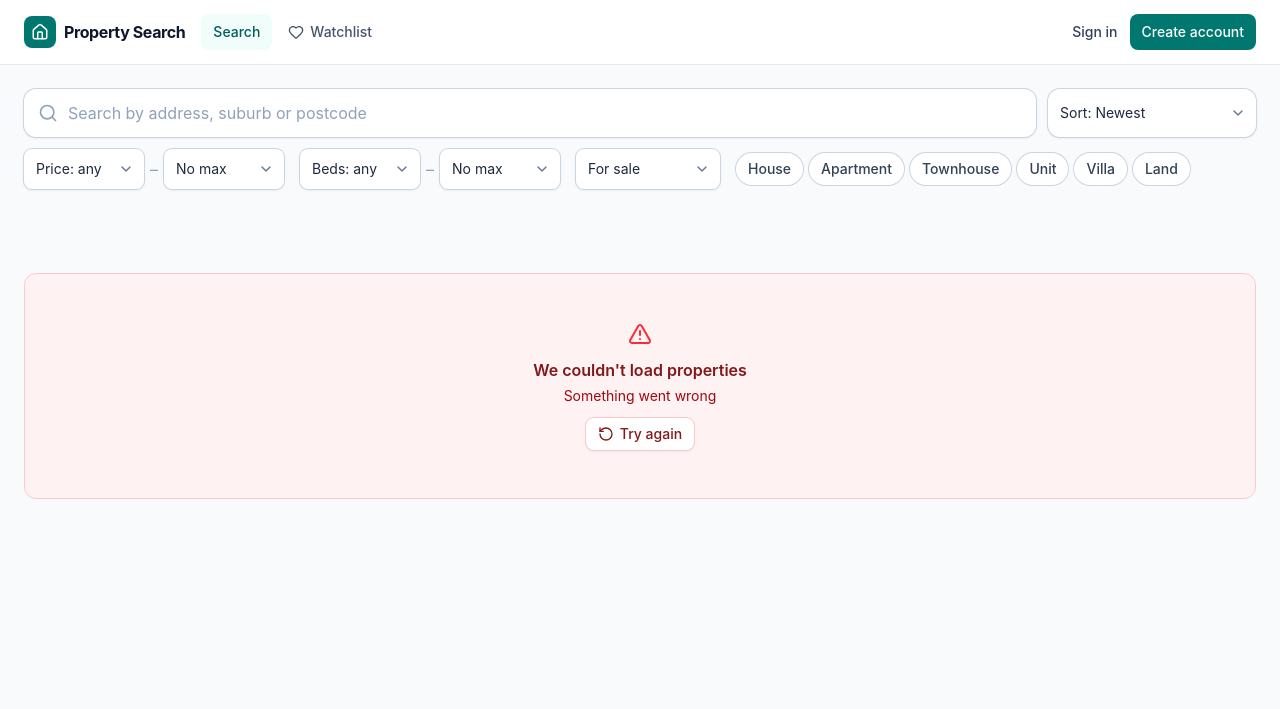
Scenario: SearchPage › shows an error with a working retry
Check: the message shows "We couldn't load properties", box [533, 360, 747, 380]
Click the button "Try again": {"x": 640, "y": 434} [586, 418, 694, 450]
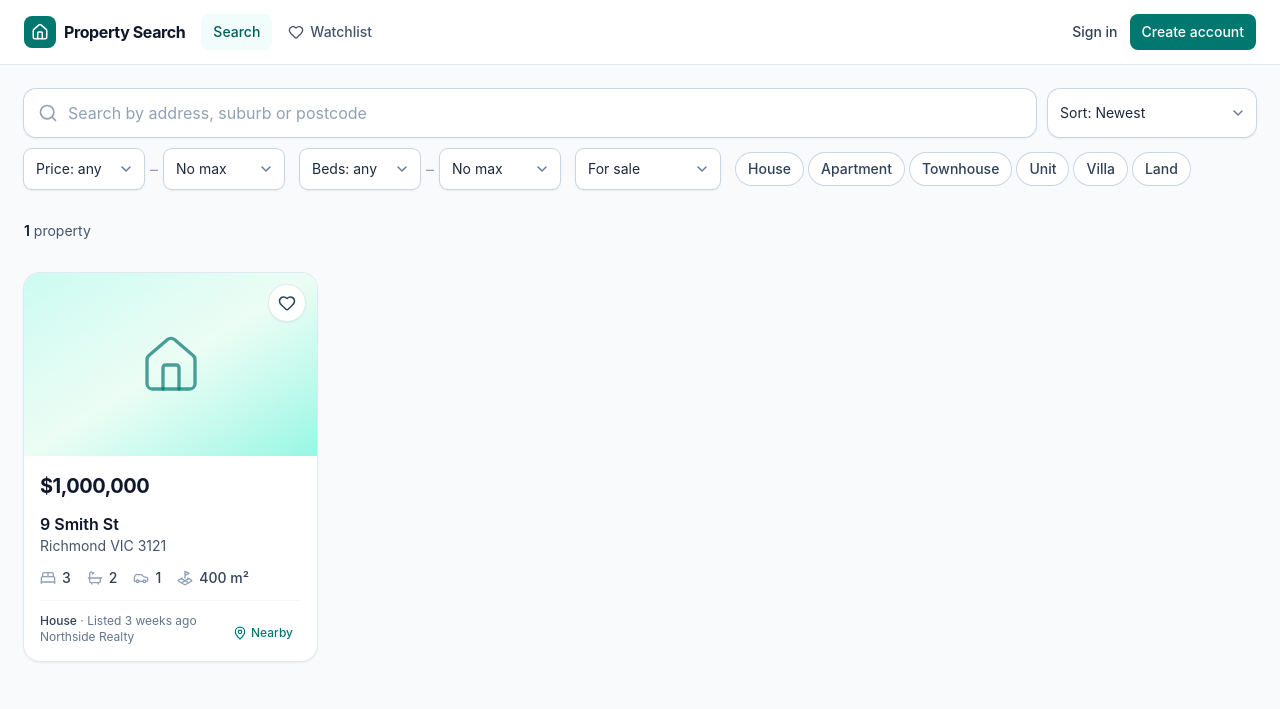
Check: the element named "9 Smith St, Richmond VIC 3121" is shown, box [24, 273, 317, 661]
